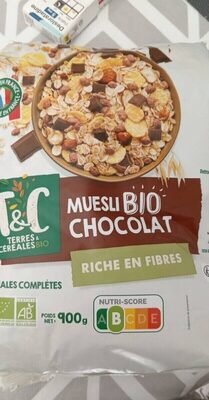Muesli au chocolat: (10, 20, 199, 380)
